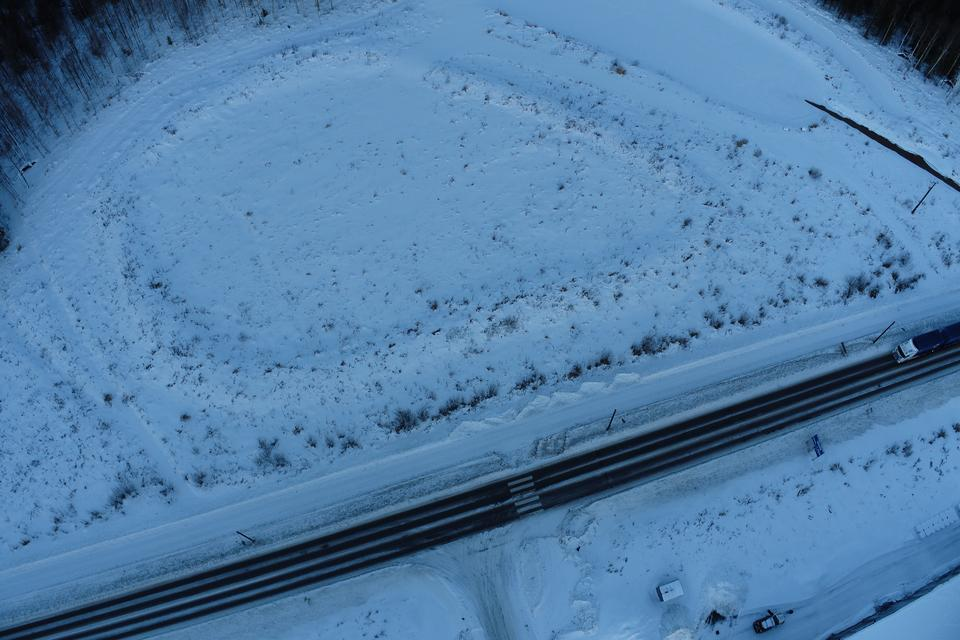intersection: (381, 448, 554, 631)
